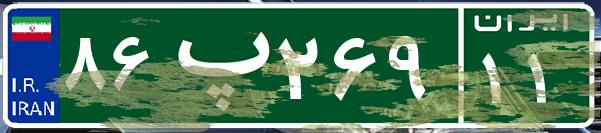1: (475, 38, 525, 113), (525, 38, 570, 115)
2: (273, 28, 330, 110)
6: (330, 28, 385, 110), (110, 28, 158, 105)
8: (57, 26, 110, 107)
9: (385, 28, 445, 110)
پ: (158, 15, 273, 115)
